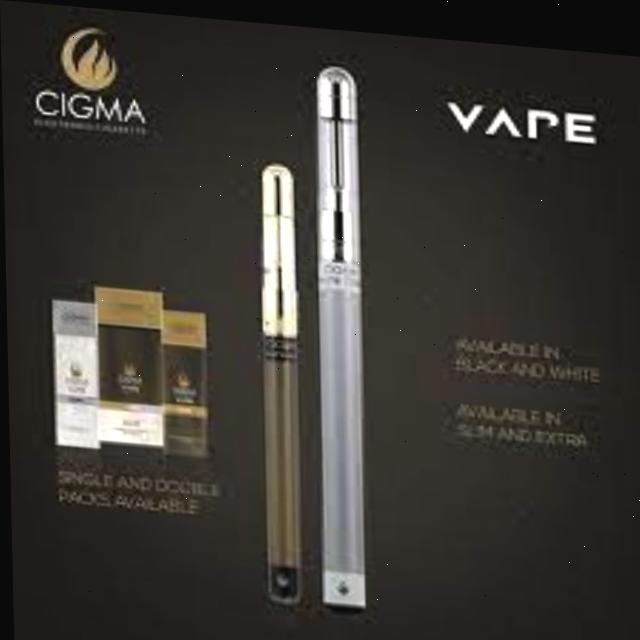vape: (311, 57, 366, 610), (256, 156, 303, 602)
